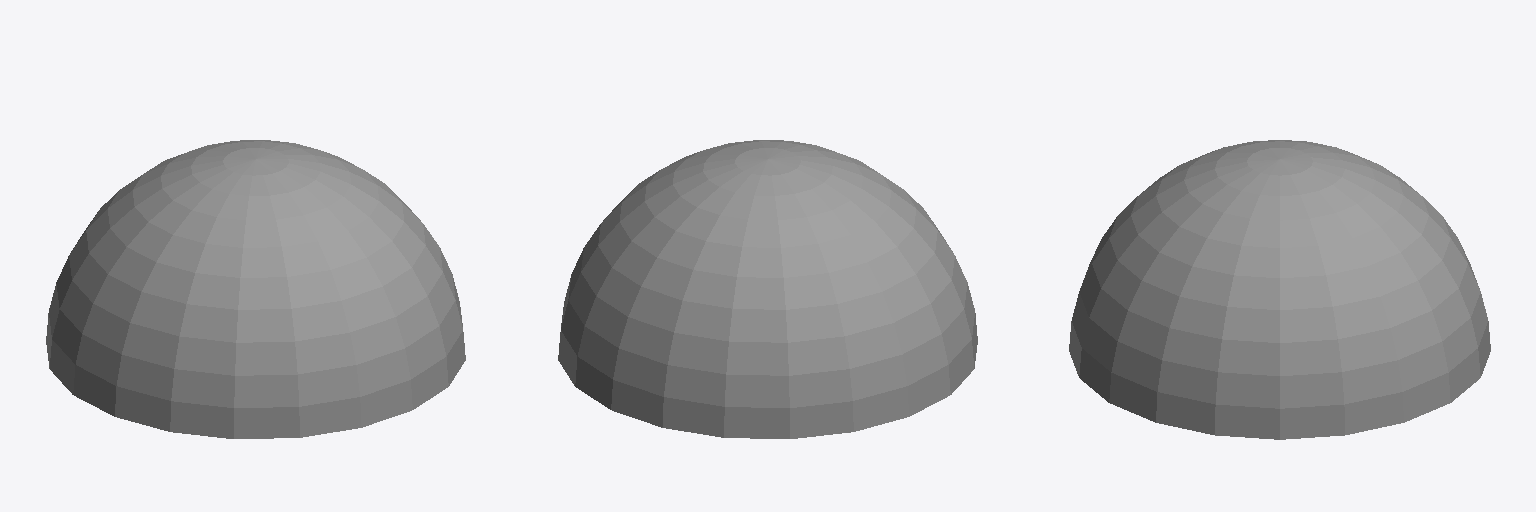
Rendered from Arena.obj.
3 renders of one model, left to right at view 1: azimuth 30°, elevation 25°; view 2: azimuth 150°, elevation 25°; view 3: azimuth 270°, elevation 25°, orthographic.
Parts seen in each view (by area): view 1: sky; view 2: sky; view 3: sky.
Part boxes in pixels (bbox=[...]): sky: bbox=[46, 140, 465, 438]; sky: bbox=[558, 140, 977, 438]; sky: bbox=[1069, 140, 1490, 439].
Size of the model in its own units: 41.48 by 20.95 by 41.48.